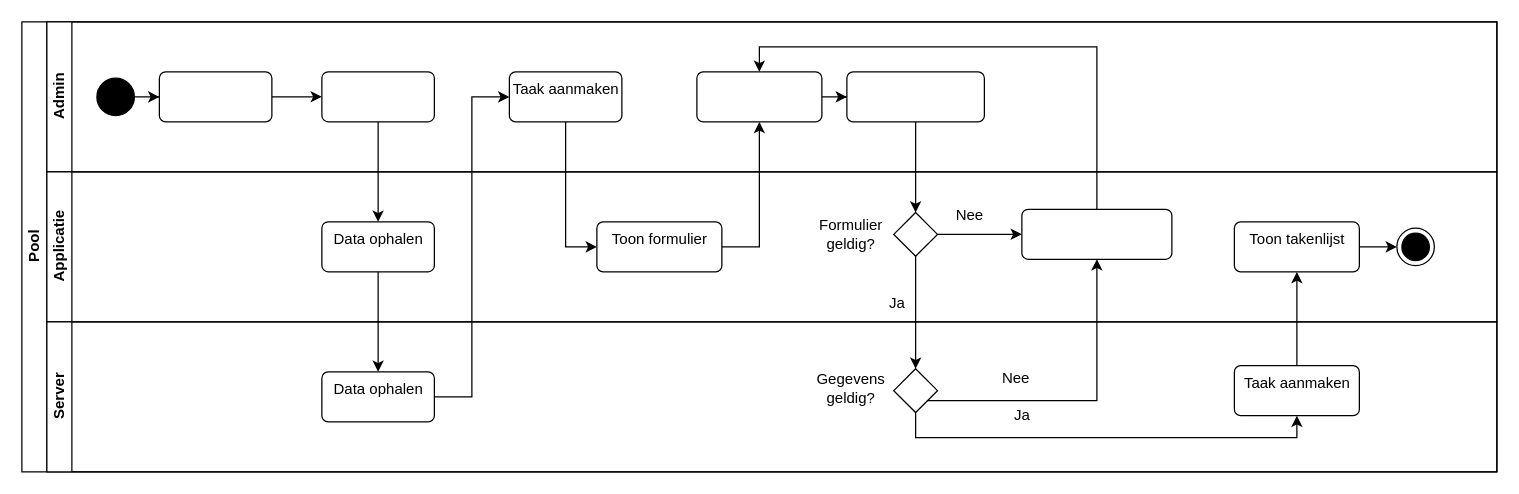
Image size: 1519x494. Some labels were removed from this diagram. Here are the shapes that lost their labels. From the top down, the centre of each, then its label:
pixel 215 96: Start applicatie
pixel 377 96: <<external>> Meld aan
pixel 759 96: Formulier invullen
pixel 915 96: Formulier versturen
pixel 1096 233: Toon foutmelding(en)
